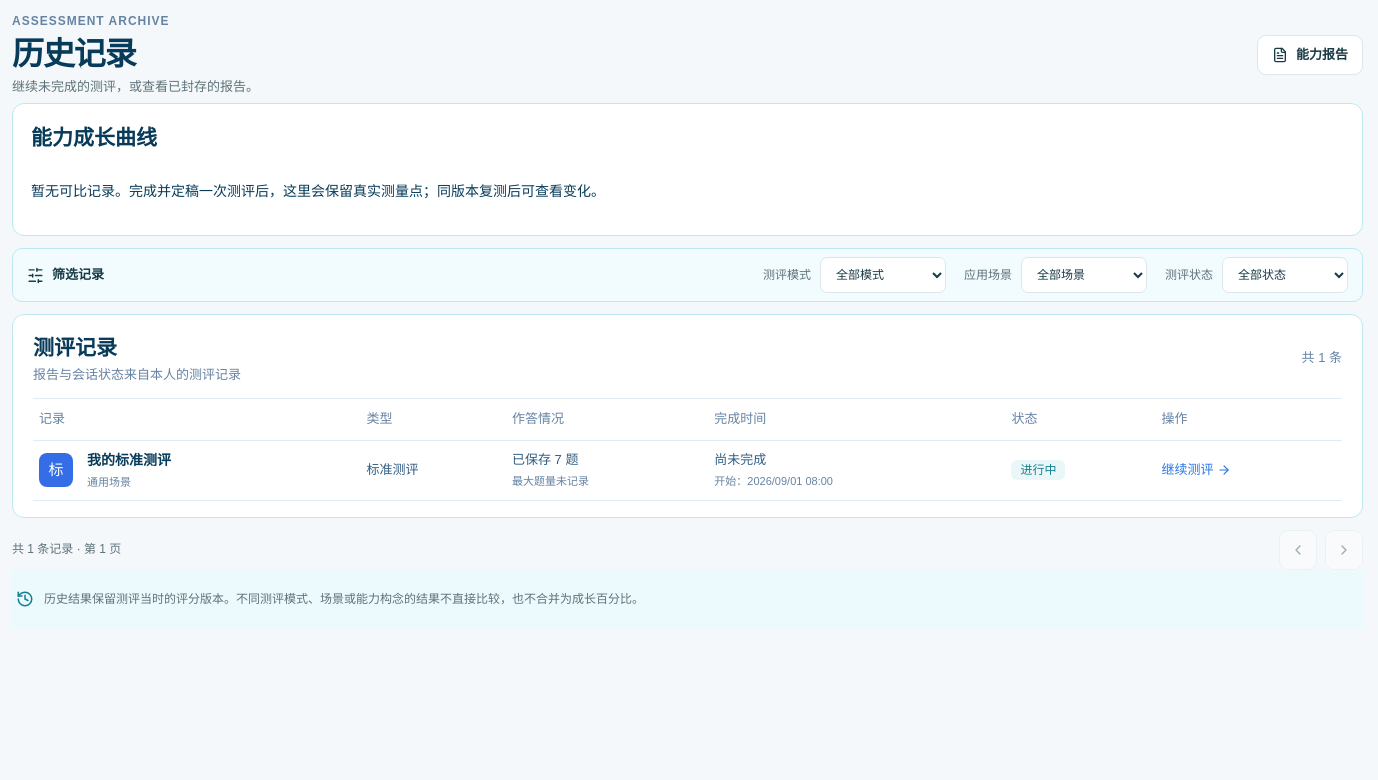
Test: HistoryView › uses session status filters and clears stale organization records
Step 1. Select "已完成" in the dropdown with test id "status-filter" → [1285, 275], box [1222,257,1348,293]
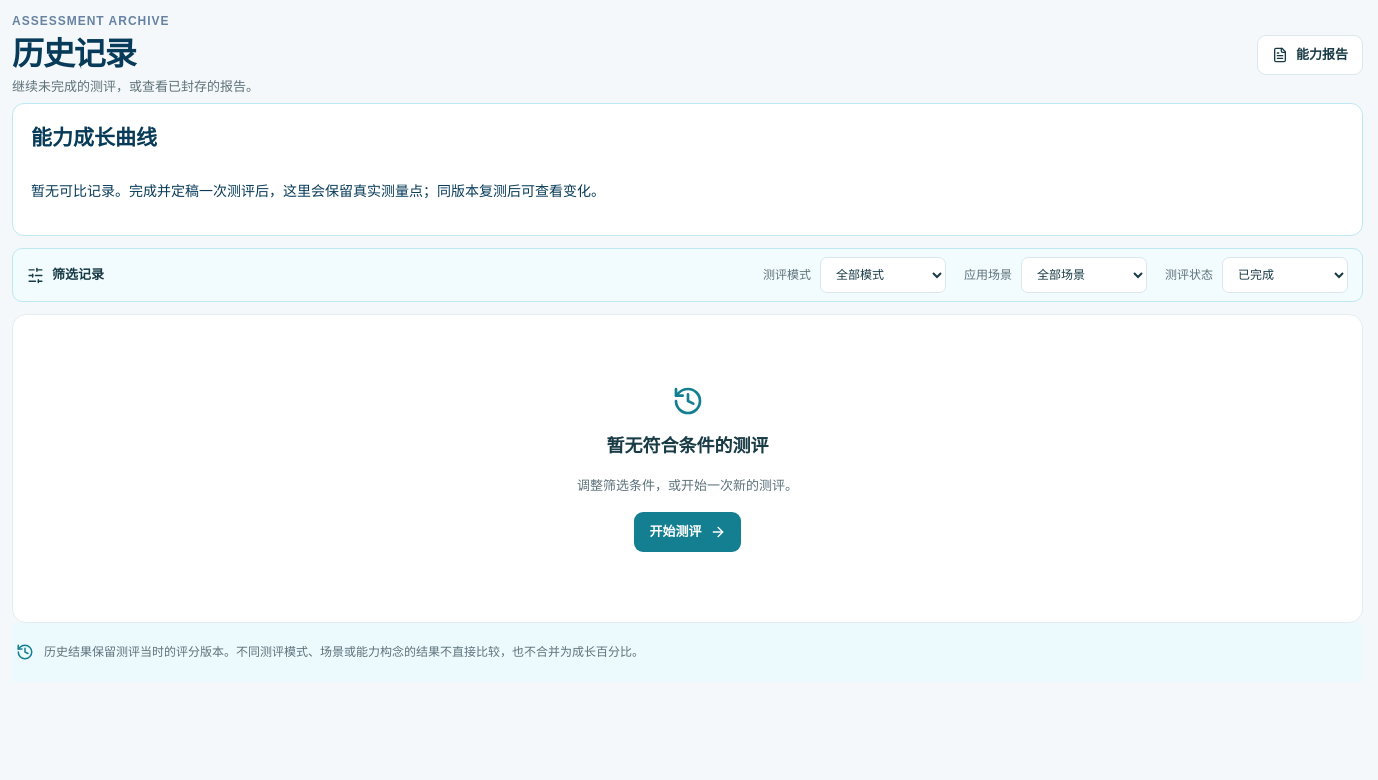
Now the text "我的标准测评" is gone
Now the text "暂无符合条件的测评" is shown, box [606,432,768,461]
